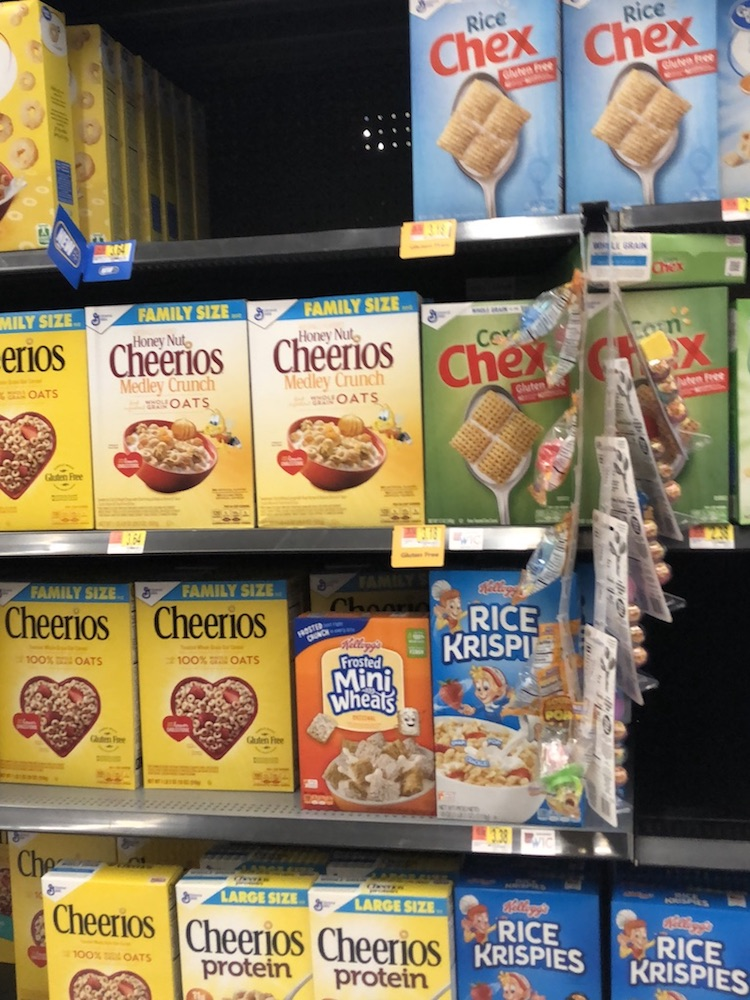Frosted Mini Original -9295869: (284, 607, 434, 802)
